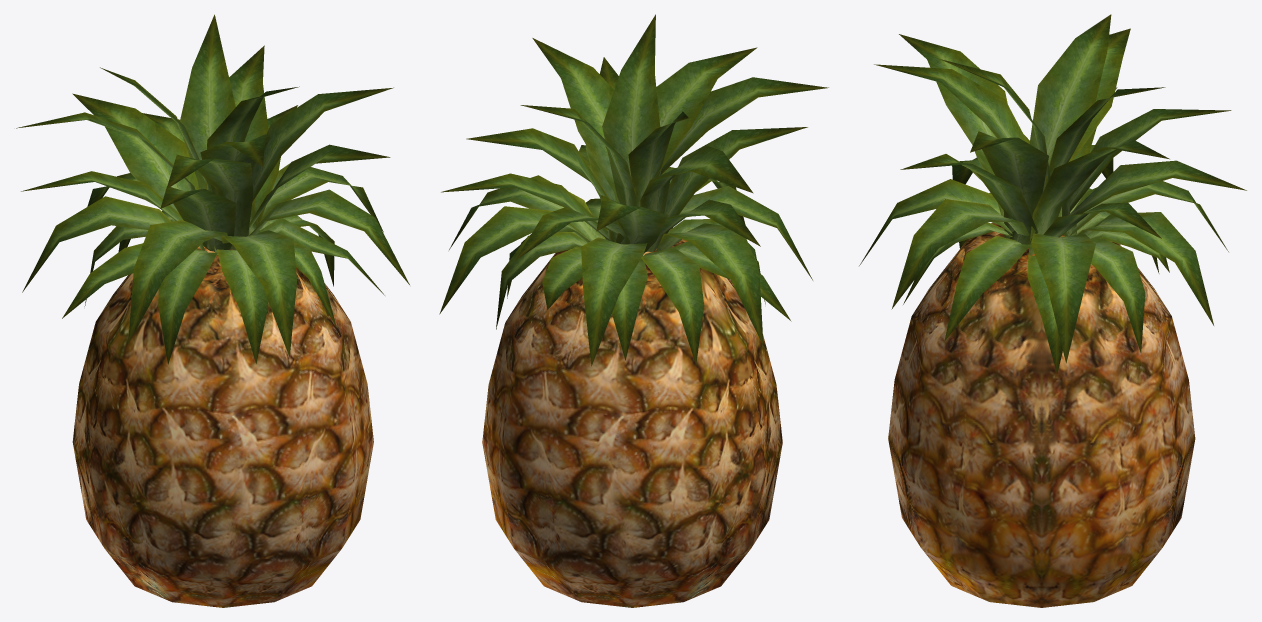
The model's file is boluo.fbx.
3 views of the same model, side by side, from view 1: azimuth 30°, elevation 25°; view 2: azimuth 150°, elevation 25°; view 3: azimuth 270°, elevation 25° (orthographic). The views are drawn at different scales.
Parts seen in each view (by area): view 1: polySurface66; view 2: polySurface66; view 3: polySurface66.
Part boxes in pixels (<box>): polySurface66: <box>16,14,409,607</box>; polySurface66: <box>439,14,828,607</box>; polySurface66: <box>859,14,1246,607</box>.
Size of the model in its own units: 2.93 by 4.25 by 2.86.
